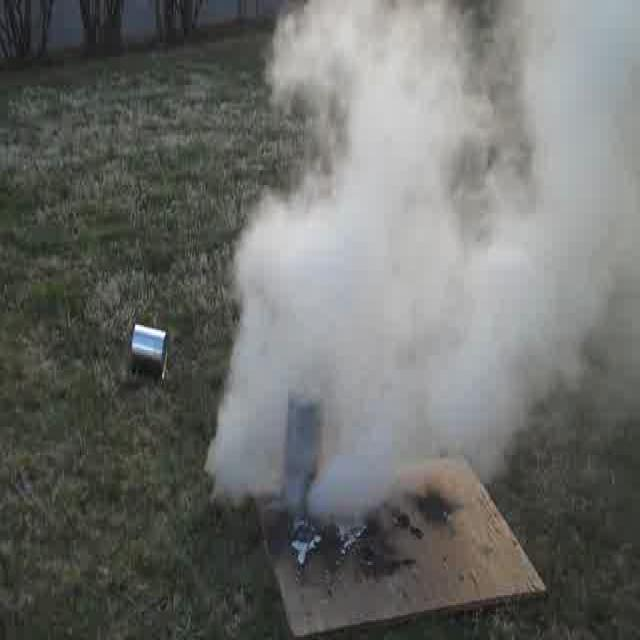Smoke: (218, 9, 638, 508)
